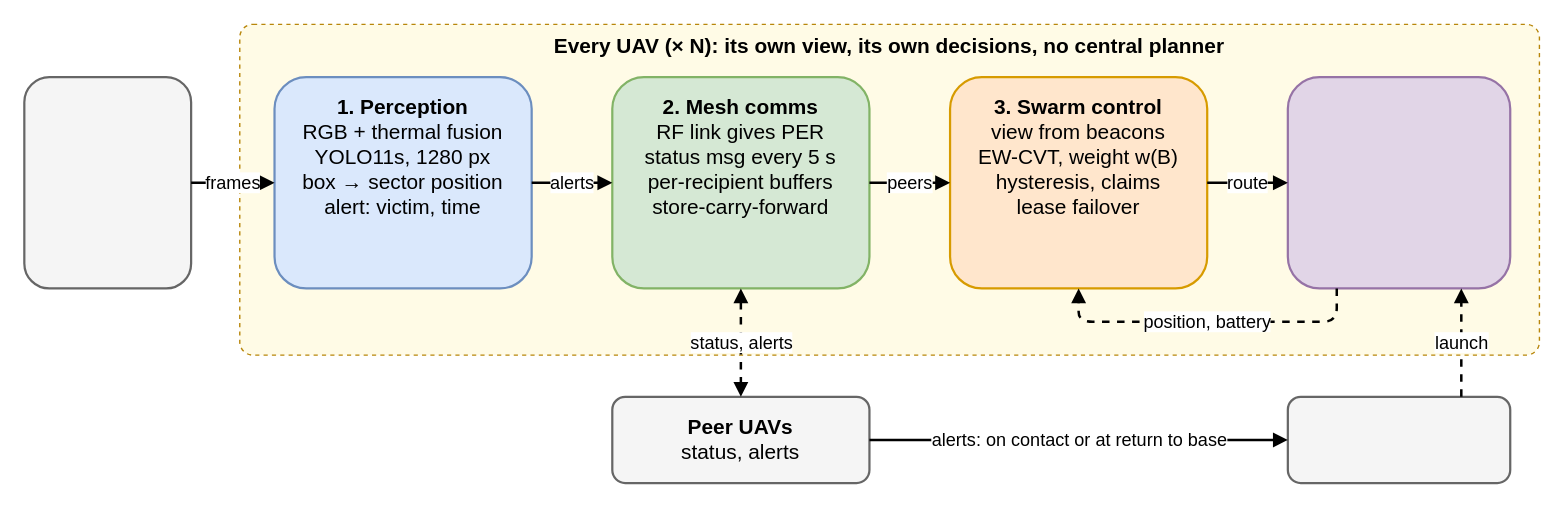
Image size: 1565x509. Some labels were removed from this diagram. Here are the shapes that lost their labels. From the top down, the centre of each, then its label:
At (x=107, y=182): "Search arena K sectors, one RGB + thermal frame per sector".
At (x=1398, y=182): "Flight & battery route over sectors battery drain return at 15 %".
At (x=1398, y=439): "Ground station passive alert sink".
